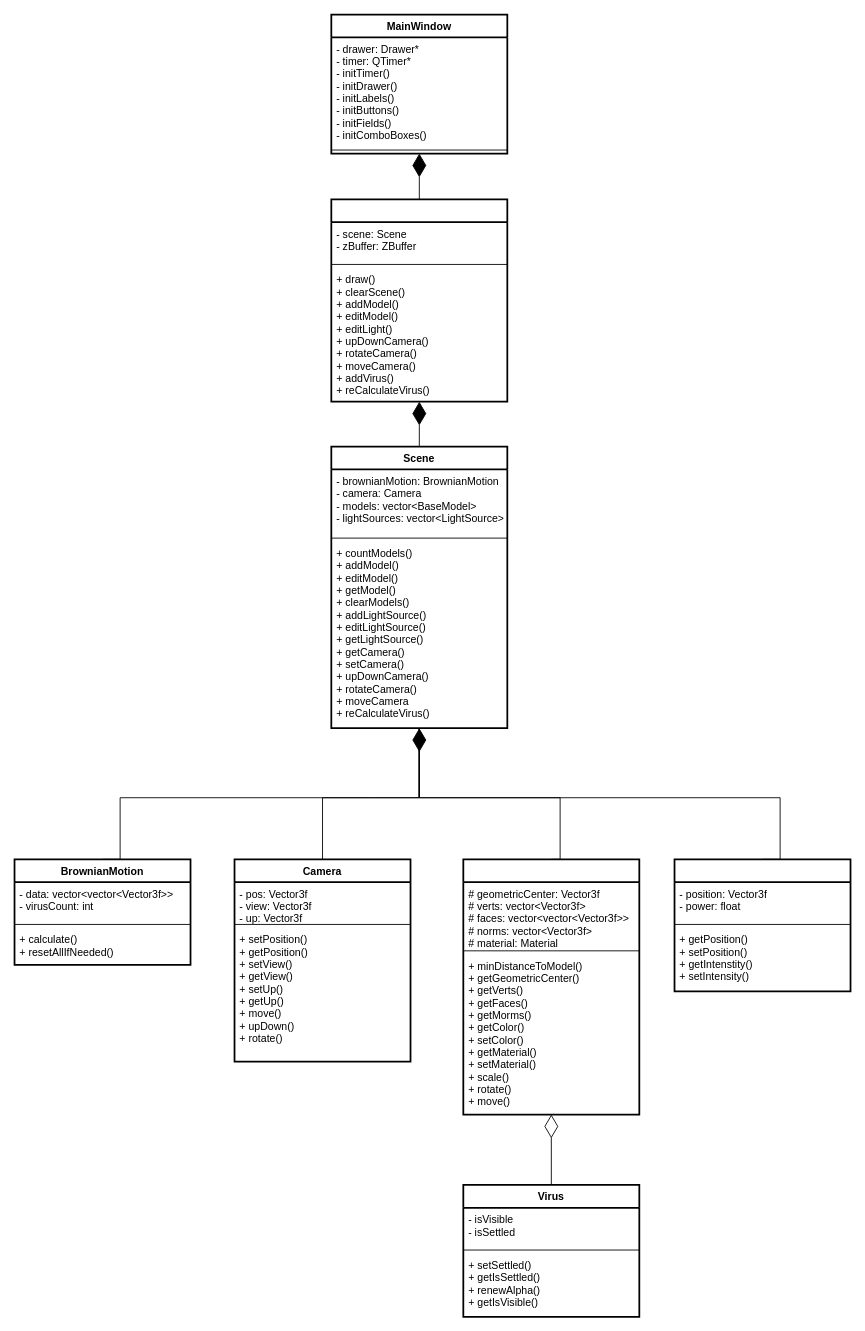
This 865x1331 diagram has some shape labels left out. Each missing label, with the box of its shape:
BaseModel: (462, 858, 640, 1115)
Drawer: (330, 198, 508, 402)
LightSource: (673, 858, 851, 992)
